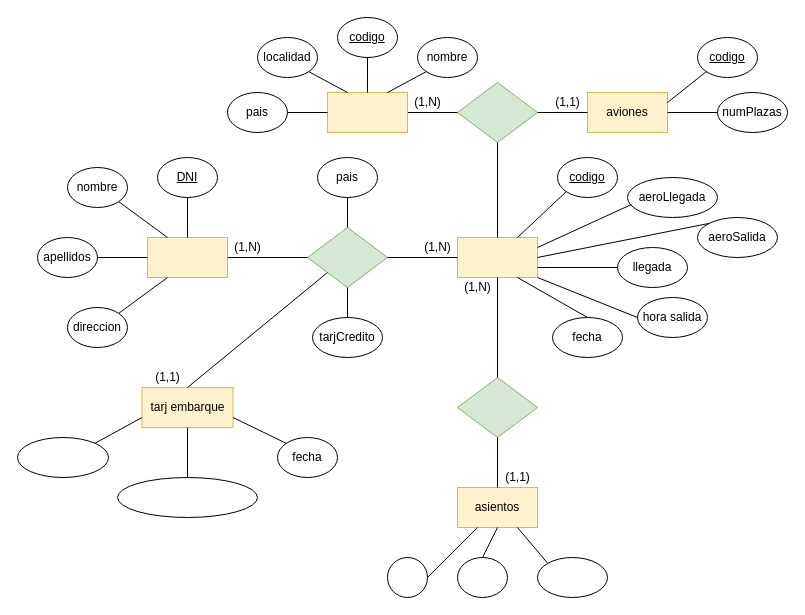
This 805x615 diagram has some shape labels left out. Here are the shapes that lost their labels. From the top down, the centre of each, then its label:
the point at 367,112: aeropuerto
the point at 497,112: tienen
the point at 187,257: clientes
the point at 347,257: reservan
the point at 497,257: vuelos
the point at 497,407: poseen
the point at 62,457: numReservas
the point at 187,497: datosPersonalesCliente
the point at 407,577: fila
the point at 482,577: planta
the point at 572,577: columna
